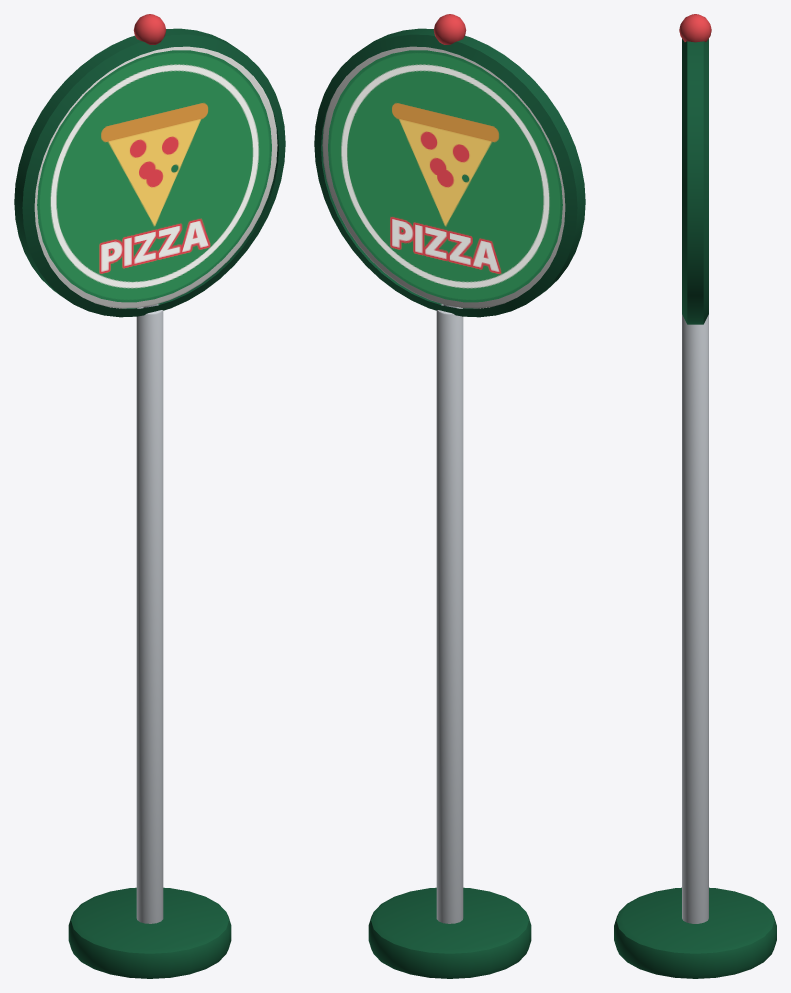
The model's file is placa_giratoria_pizza.glb.
3 renders of one model, left to right at view 1: azimuth 30°, elevation 25°; view 2: azimuth 150°, elevation 25°; view 3: azimuth 270°, elevation 25°, orthographic.
Parts seen in each view (by area): view 1: placa_gira, placa_giratoria_pizza; view 2: placa_gira, placa_giratoria_pizza; view 3: placa_giratoria_pizza, placa_gira.
Part boxes in pixels (x1=…): placa_gira: x1=14, y1=14, x2=285, y2=317; placa_giratoria_pizza: x1=68, y1=304, x2=231, y2=978; placa_gira: x1=314, y1=14, x2=585, y2=317; placa_giratoria_pizza: x1=368, y1=304, x2=531, y2=978; placa_giratoria_pizza: x1=614, y1=314, x2=776, y2=978; placa_gira: x1=679, y1=14, x2=711, y2=324.
Size of the model in its own units: 1.12 by 3.79 by 0.6.
2 materials, 2 textured.
